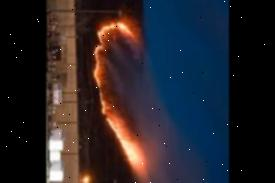fire: (88, 17, 145, 180)
